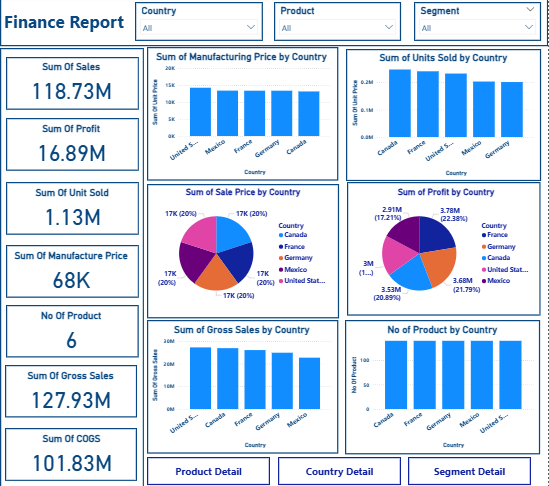

The page's visual inventory and layout, read from the dashboard file:
{"tool":"powerbi","page":{"name":"Finance","canvas":[1337,1200],"ordinal":0},"visuals":[{"type":"shape","box":[0,0,1337,122.5],"z":0},{"type":"slicer","fields":{"Values":["financials.Country"]},"box":[329.3,14.6,312.2,95.1],"z":1000},{"type":"slicer","fields":{"Values":["financials.Product"]},"box":[668.3,14.6,309.8,95.1],"z":2000},{"type":"slicer","fields":{"Values":["financials.Segment"]},"box":[1009.8,14.6,309.8,95.1],"z":3000},{"type":"shape","box":[0,126.8,351.2,1073.2],"z":4000},{"type":"shape","box":[13.7,147.6,324.4,128.7],"z":5000},{"type":"card","title":"Sum Of Sales","fields":{"Values":["Sum(financials.Sales)"]},"box":[29.2,157.9,288.4,106.4],"z":6000},{"type":"shape","box":[13.7,297,324.4,128.7],"z":7000},{"type":"card","title":"Sum Of Profit","fields":{"Values":["Sum(financials.Profit)"]},"box":[29.2,309,288.4,106.4],"z":8000},{"type":"shape","box":[13.7,453.2,324.4,128.7],"z":9000},{"type":"shape","box":[13.7,607.7,324.4,128.7],"z":10000},{"type":"card","title":"Sum Of Unit Sold","fields":{"Values":["Sum(financials.Units Sold)"]},"box":[32.6,465.2,288.4,106.4],"z":11000},{"type":"card","title":"Sum Of Manufacture Price","fields":{"Values":["Sum(financials.Manufacturing Price)"]},"box":[29.2,619.7,288.4,106.4],"z":12000},{"type":"shape","box":[14.6,753.7,323.8,128],"z":13000},{"type":"card","title":"No Of Product","fields":{"Values":["Count(financials.Product)"]},"box":[29.3,764.6,289,106.1],"z":14000},{"type":"shape","box":[12.8,900.6,322.3,128],"z":15000},{"type":"card","title":"Sum Of Gross Sales","fields":{"Values":["Sum(financials.Gross Sales)"]},"box":[27.7,911.3,290.2,106.7],"z":16000},{"type":"shape","box":[12.2,1053.7,322,129.3],"z":17000},{"type":"card","title":"Sum Of COGS","fields":{"Values":["Sum(financials.COGS)"]},"box":[29.3,1065.9,290.2,104.9],"z":18000},{"type":"shape","box":[358.5,126.8,465.9,326.8],"z":19000},{"type":"columnChart","title":"Count of Units  by Product","fields":{"Category":["financials.Product"],"Y":["CountNonNull(financials.Units Sold)"]},"box":[365,137.5,450,307.5],"z":20000},{"type":"shape","box":[842.5,127.5,477.5,325],"z":21000},{"type":"columnChart","fields":{"Category":["financials.Product"],"Y":["Sum(financials.Units Sold)"]},"box":[850,137.5,455,307.5],"z":22000},{"type":"shape","box":[359.3,457.4,466.7,325.9],"z":23000},{"type":"shape","box":[842.6,455.6,477.8,327.8],"z":24000},{"type":"pieChart","fields":{"Category":["financials.Product"],"Y":["Sum(financials.Sale Price)"]},"box":[377.8,464.8,437,313],"z":25000},{"type":"pieChart","fields":{"Category":["financials.Product"],"Y":["Sum(financials.Profit)"]},"box":[859.3,463,437,313],"z":26000},{"type":"shape","box":[840.7,790.7,477.8,327.8],"z":27000},{"type":"shape","box":[359.3,790.7,464.8,327.8],"z":28000},{"type":"columnChart","title":"Manufacture Price  by Product","fields":{"Category":["financials.Product"],"Y":["Sum(financials.Manufacturing Price)"]},"box":[366.7,801.9,450,307.4],"z":29000},{"type":"columnChart","title":"Gross Sales  by Product","fields":{"Category":["financials.Product"],"Y":["Sum(financials.Gross Sales)"]},"box":[853.7,801.9,450,307.4],"z":30000},{"type":"shape","box":[359.3,1124.1,300,68.5],"z":31000},{"type":"shape","box":[677.8,1124.1,300,68.5],"z":32000},{"type":"shape","box":[996.3,1124.1,300,68.5],"z":33000}]}

Visuals, with their boxes in screenshot pixels (x1, y1, x2, y2), scaled from the page's 1337x1200 canvas onto the 549x486 screenshot:
shape: (x1=0, y1=0, x2=548, y2=50)
slicer - financials.Country: (x1=135, y1=6, x2=263, y2=44)
slicer - financials.Product: (x1=274, y1=6, x2=402, y2=44)
slicer - financials.Segment: (x1=415, y1=6, x2=542, y2=44)
shape: (x1=0, y1=51, x2=144, y2=485)
shape: (x1=6, y1=60, x2=139, y2=112)
"Sum Of Sales" card: (x1=12, y1=64, x2=130, y2=107)
shape: (x1=6, y1=120, x2=139, y2=172)
"Sum Of Profit" card: (x1=12, y1=125, x2=130, y2=168)
shape: (x1=6, y1=184, x2=139, y2=236)
shape: (x1=6, y1=246, x2=139, y2=298)
"Sum Of Unit Sold" card: (x1=13, y1=188, x2=132, y2=231)
"Sum Of Manufacture Price" card: (x1=12, y1=251, x2=130, y2=294)
shape: (x1=6, y1=305, x2=139, y2=357)
"No Of Product" card: (x1=12, y1=310, x2=131, y2=353)
shape: (x1=5, y1=365, x2=138, y2=417)
"Sum Of Gross Sales" card: (x1=11, y1=369, x2=131, y2=412)
shape: (x1=5, y1=427, x2=137, y2=479)
"Sum Of COGS" card: (x1=12, y1=432, x2=131, y2=474)
shape: (x1=147, y1=51, x2=339, y2=184)
"Count of Units  by Product" columnChart: (x1=150, y1=56, x2=335, y2=180)
shape: (x1=346, y1=52, x2=542, y2=183)
columnChart - financials.Product x Sum(financials.Units Sold): (x1=349, y1=56, x2=536, y2=180)
shape: (x1=148, y1=185, x2=339, y2=317)
shape: (x1=346, y1=185, x2=542, y2=317)
pieChart - financials.Product x Sum(financials.Sale Price): (x1=155, y1=188, x2=335, y2=315)
pieChart - financials.Product x Sum(financials.Profit): (x1=353, y1=188, x2=532, y2=314)
shape: (x1=345, y1=320, x2=541, y2=453)
shape: (x1=148, y1=320, x2=338, y2=453)
"Manufacture Price  by Product" columnChart: (x1=151, y1=325, x2=335, y2=449)
"Gross Sales  by Product" columnChart: (x1=351, y1=325, x2=535, y2=449)
shape: (x1=148, y1=455, x2=271, y2=483)
shape: (x1=278, y1=455, x2=402, y2=483)
shape: (x1=409, y1=455, x2=532, y2=483)
